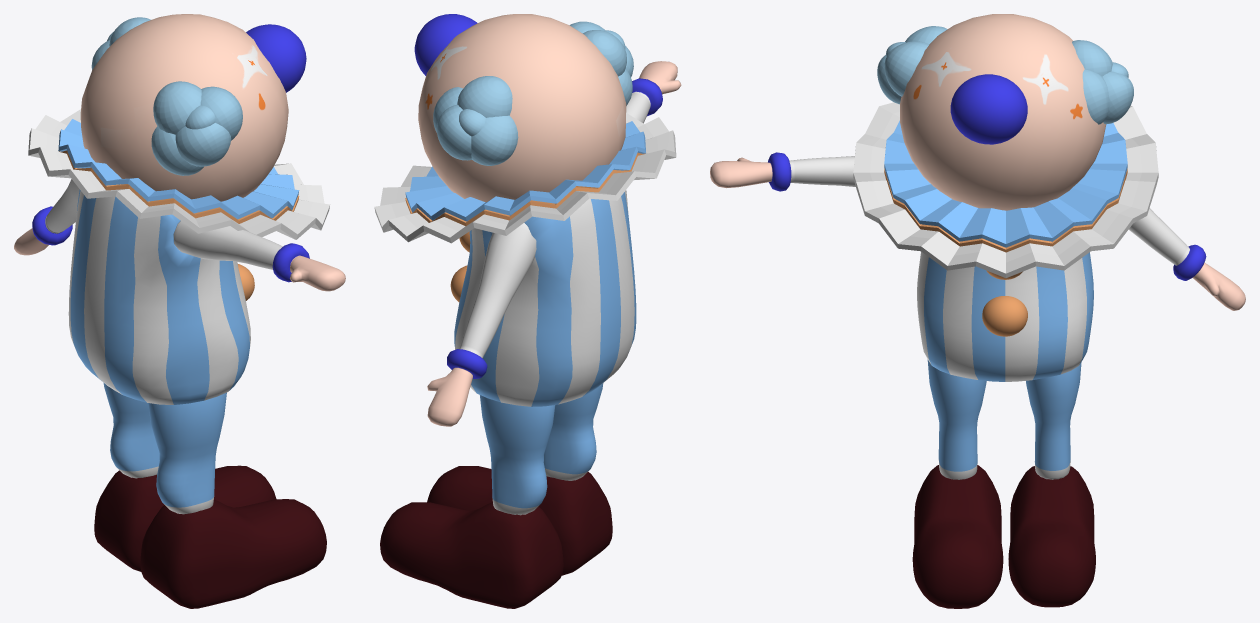
The model's file is Blue_win.fbx.
3 views of the same model, side by side, from view 1: azimuth 30°, elevation 25°; view 2: azimuth 150°, elevation 25°; view 3: azimuth 270°, elevation 25° (orthographic).
Visible parts, largest first — view 1: Legs.001, Body.001, head, Circle, Sphere.006, Arms.001, Circle.002, Arms.002, Sphere.003, Circle.001, Sphere.009; view 2: Legs.001, Body.001, head, Arms.002, Circle, Sphere.009, Circle.002, Arms.001, Sphere.003, Sphere.006, Circle.001; view 3: Legs.001, head, Body.001, Circle, Circle.002, Sphere.003, Arms.001, Arms.002, Sphere.009, Sphere.006, Sphere.005, Circle.001.
Part boxes in pixels (<box>): Legs.001: <box>94,383,326,608</box>; Body.001: <box>68,189,250,404</box>; head: <box>80,14,288,201</box>; Circle: <box>28,109,329,239</box>; Sphere.006: <box>151,81,242,175</box>; Arms.001: <box>173,221,345,291</box>; Circle.002: <box>58,119,299,219</box>; Arms.002: <box>14,179,79,255</box>; Sphere.003: <box>246,24,306,92</box>; Circle.001: <box>59,150,299,223</box>; Sphere.009: <box>91,17,150,69</box>; Legs.001: <box>380,383,612,608</box>; Body.001: <box>454,190,636,406</box>; head: <box>418,14,626,202</box>; Arms.002: <box>427,223,536,426</box>; Circle: <box>374,113,676,243</box>; Sphere.009: <box>433,76,518,165</box>; Circle.002: <box>405,121,645,221</box>; Arms.001: <box>626,61,681,123</box>; Sphere.003: <box>414,14,477,75</box>; Sphere.006: <box>569,21,633,105</box>; Circle.001: <box>405,152,645,226</box>; Legs.001: <box>912,359,1095,608</box>; head: <box>900,14,1106,210</box>; Body.001: <box>917,251,1093,381</box>; Circle: <box>853,102,1158,277</box>; Circle.002: <box>884,120,1127,247</box>; Sphere.003: <box>950,74,1027,144</box>; Arms.001: <box>710,152,855,191</box>; Arms.002: <box>1128,208,1245,310</box>; Sphere.009: <box>1072,40,1133,124</box>; Sphere.006: <box>877,26,947,104</box>; Sphere.005: <box>982,296,1027,336</box>; Circle.001: <box>884,168,1127,252</box>.
Size of the model in its own units: 194 by 392 by 351.
